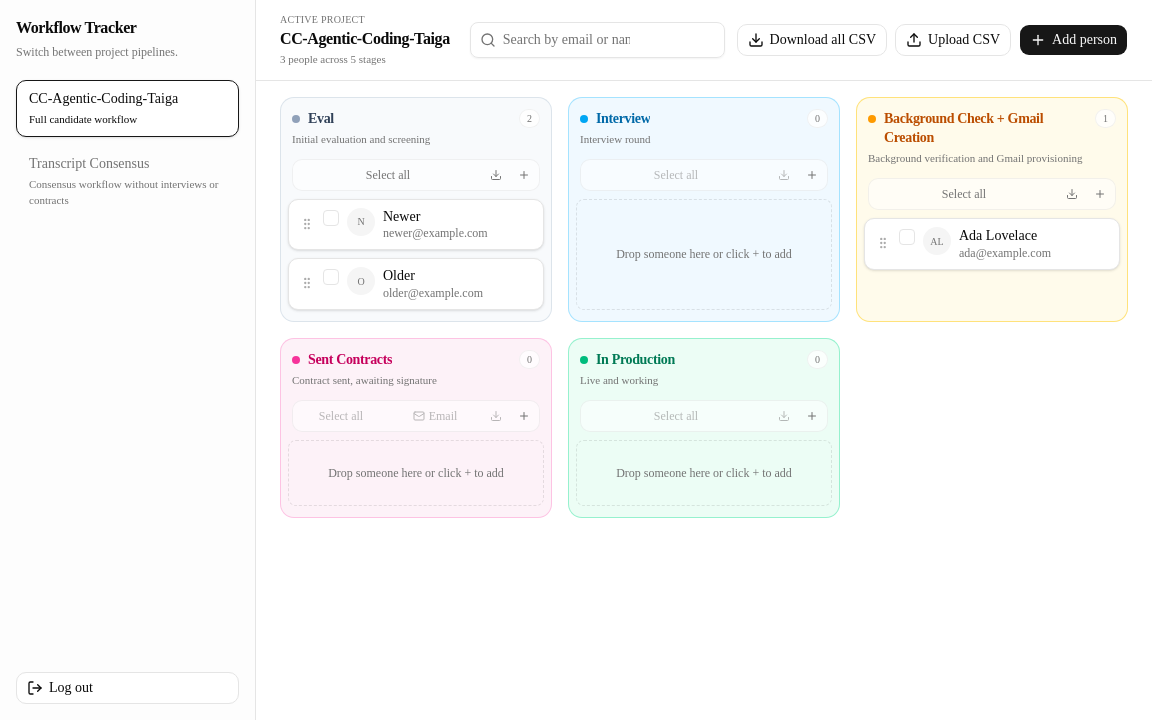
it: Board › groups, sorts, searches, and clears results
The width and height of the screenshot is (1152, 720).
Expected: the text "3 people across 5 stages" is shown, [280,53,386,65]
Type "ada" into the search field named "Search people" at (597,40), box [470,22,725,58]
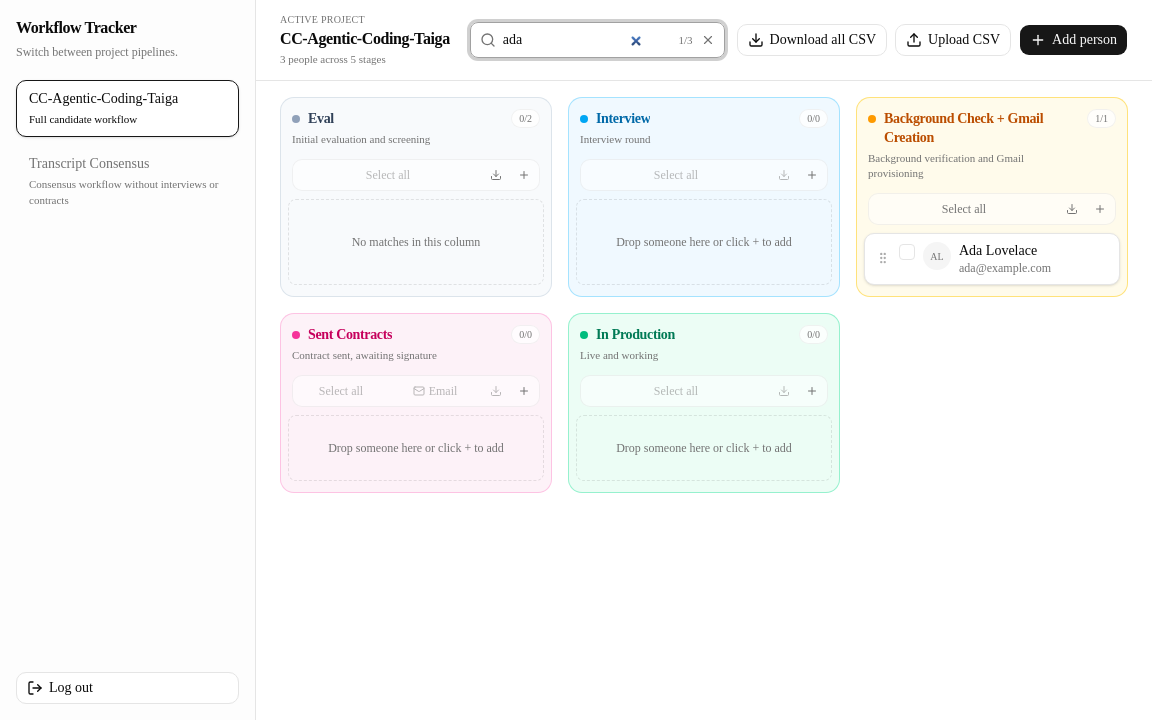
Expected: the text "ada@example.com" is shown, [959,261,1051,275]
Now the text "1/3" is shown, box [678,32,693,48]
Now the text "older@example.com" is gone
Click the button named "Clear search" at (708,40), box [696,29,718,51]
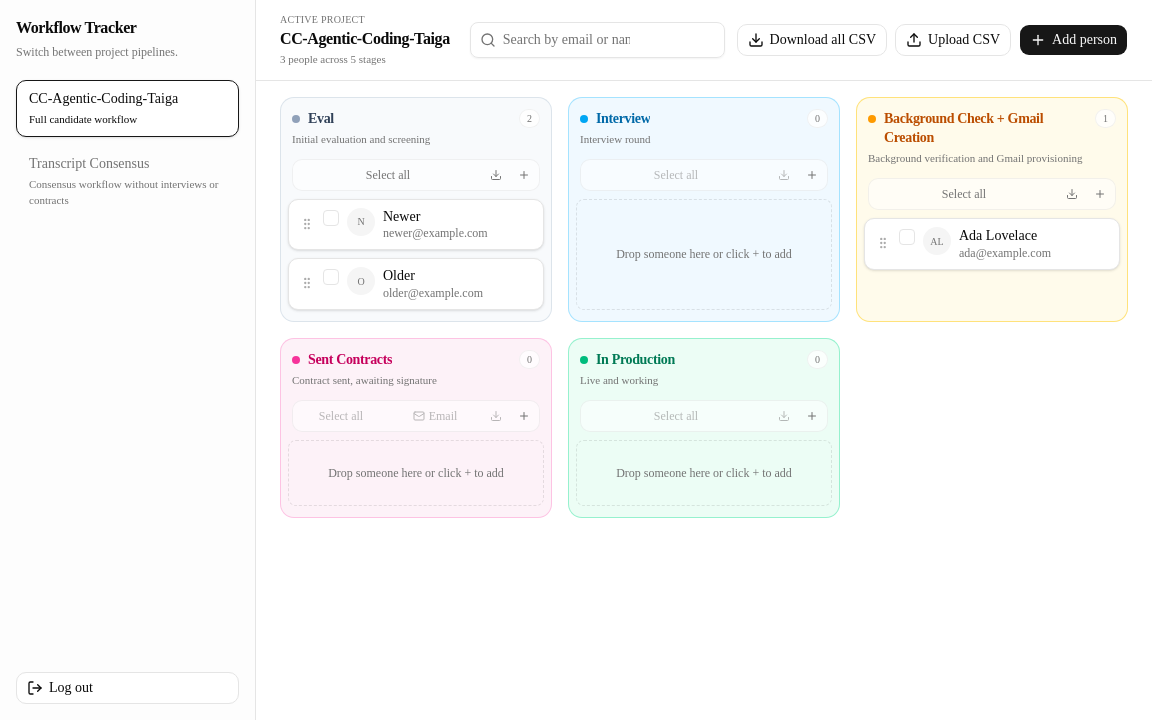
Now the text "older@example.com" is shown, box [383,285,497,301]
